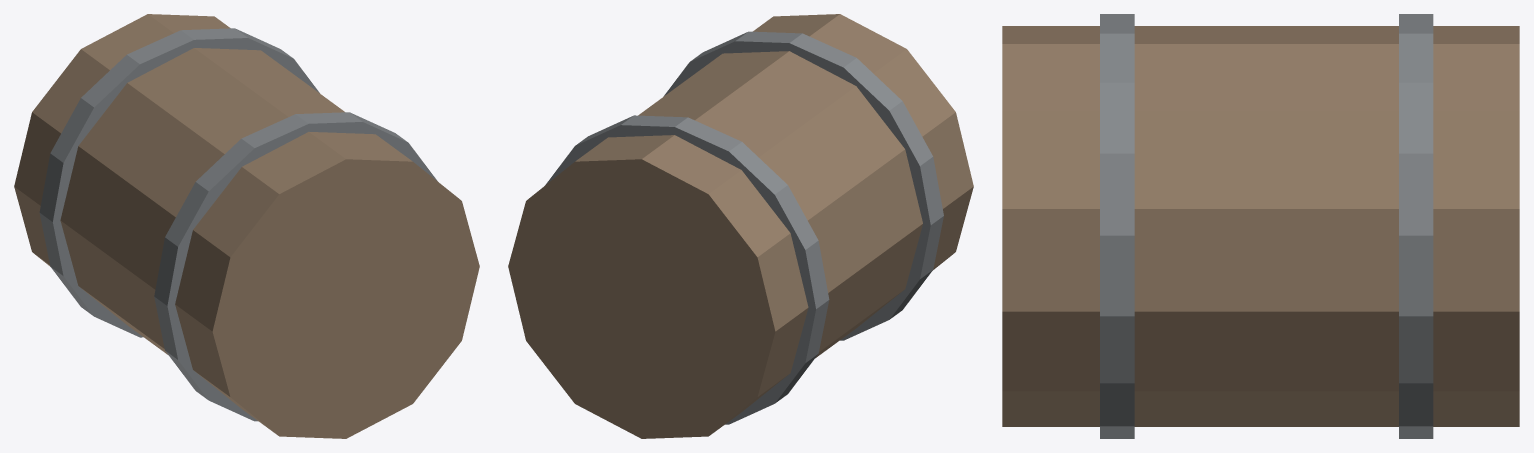
Rendered from SM_Barrel.glb.
The picture shows the model from 3 angles, left to right: view 1: azimuth 30°, elevation 25°; view 2: azimuth 150°, elevation 25°; view 3: azimuth 270°, elevation 25°; orthographic projection. The views are drawn at different scales.
Visible parts, largest first — view 1: SM_Barrel_part00, SM_Barrel_part02, SM_Barrel_part01; view 2: SM_Barrel_part00, SM_Barrel_part01, SM_Barrel_part02; view 3: SM_Barrel_part00, SM_Barrel_part01, SM_Barrel_part02.
Boxes of the visible parts, box(x1,y1,x2,y2) form: SM_Barrel_part00: box(14, 14, 479, 438); SM_Barrel_part02: box(154, 112, 437, 421); SM_Barrel_part01: box(39, 28, 319, 337); SM_Barrel_part00: box(508, 14, 973, 438); SM_Barrel_part01: box(545, 115, 829, 424); SM_Barrel_part02: box(663, 31, 943, 340); SM_Barrel_part00: box(1002, 26, 1519, 426); SM_Barrel_part01: box(1399, 14, 1433, 438); SM_Barrel_part02: box(1100, 14, 1134, 438).
Bounding box in the file's own units: 0.74 × 0.74 × 0.9.
